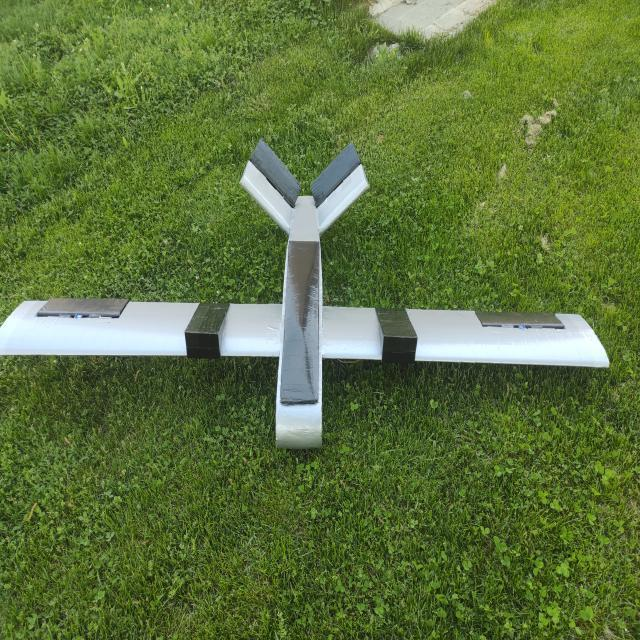UAV: (5, 142, 622, 490)
